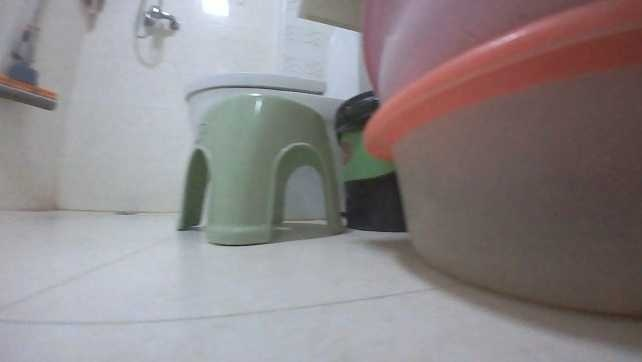plastic_stool: (174, 93, 347, 248)
toilet: (176, 27, 360, 220)
